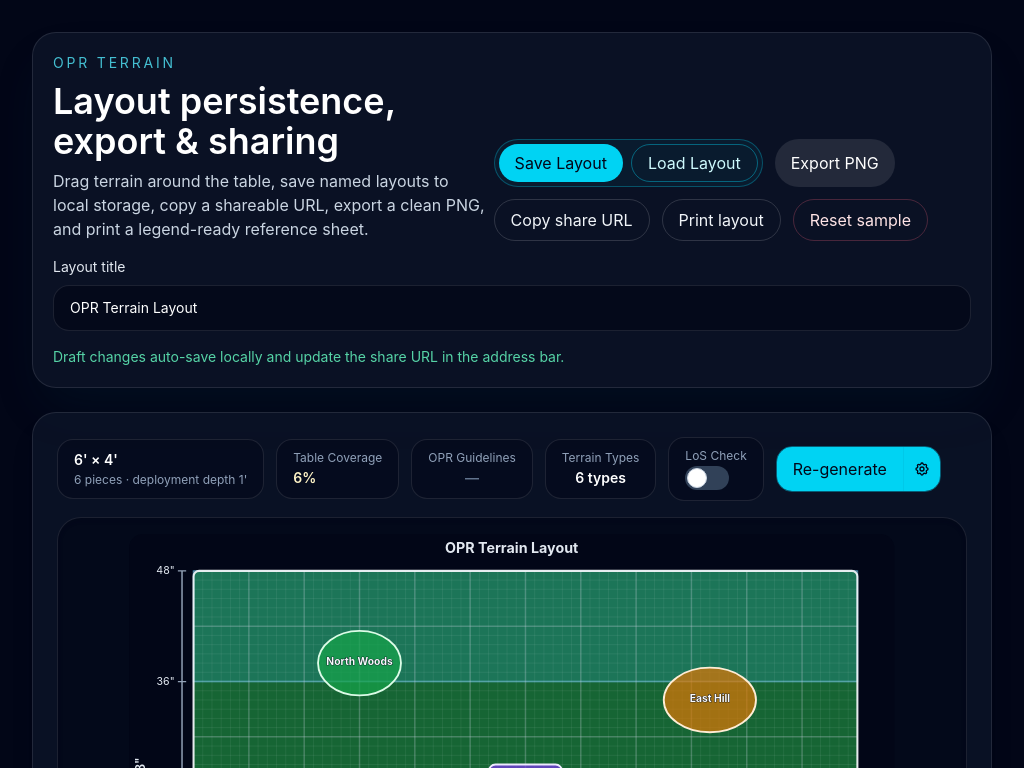
Scenario: LayoutStudio › keeps copy share URL button accessible and functional
The image size is (1024, 768).
Click the button "Copy share URL" at (572, 220), box [494,199,650,241]
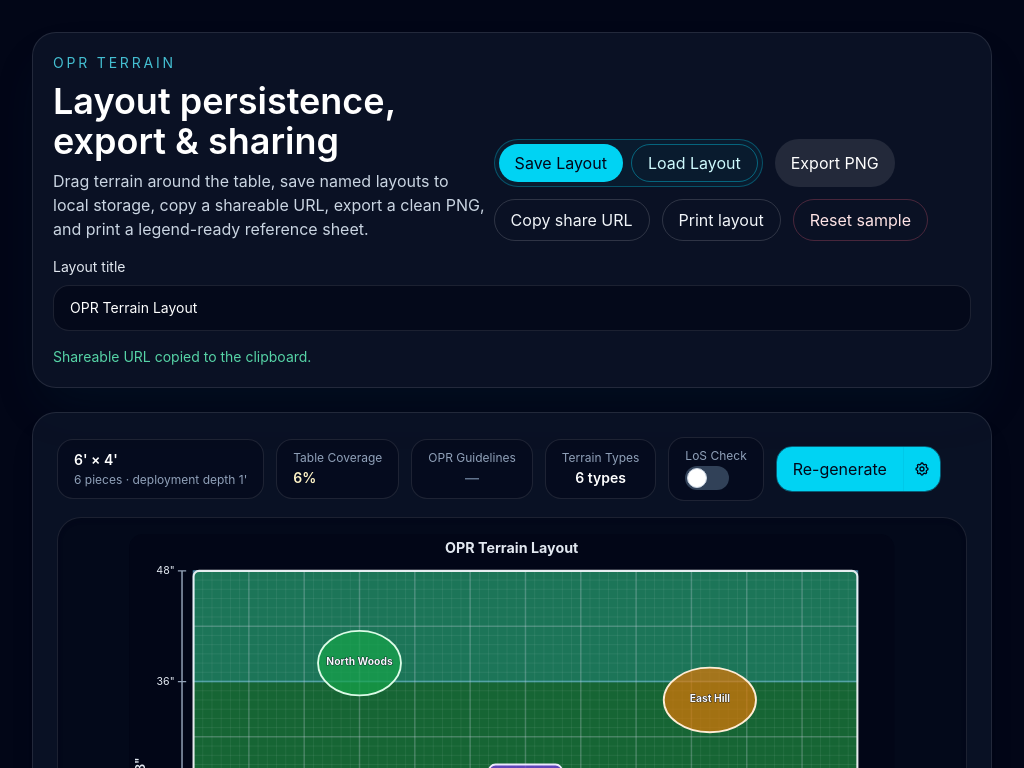
Now the text "Shareable URL copied to the clipboard." is shown, box [53,348,311,365]
